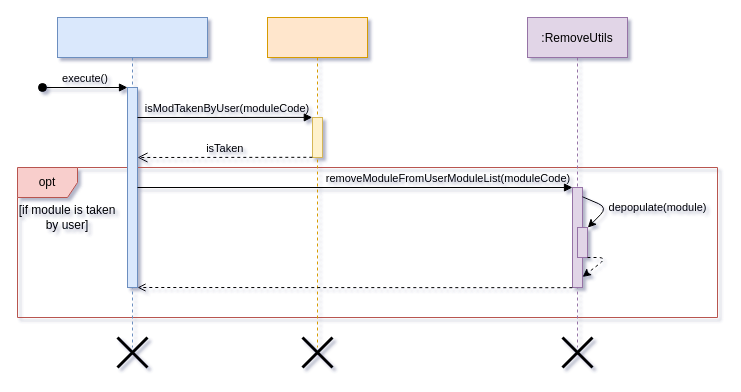
The diagram is 741 pixels wide and 392 high, and some of its shapes have lost their labels. Each missing label, with the box of its shape:
:ModuleValidator: (266, 16, 368, 348)
:RemoveModuleCommand: (56, 16, 208, 348)
